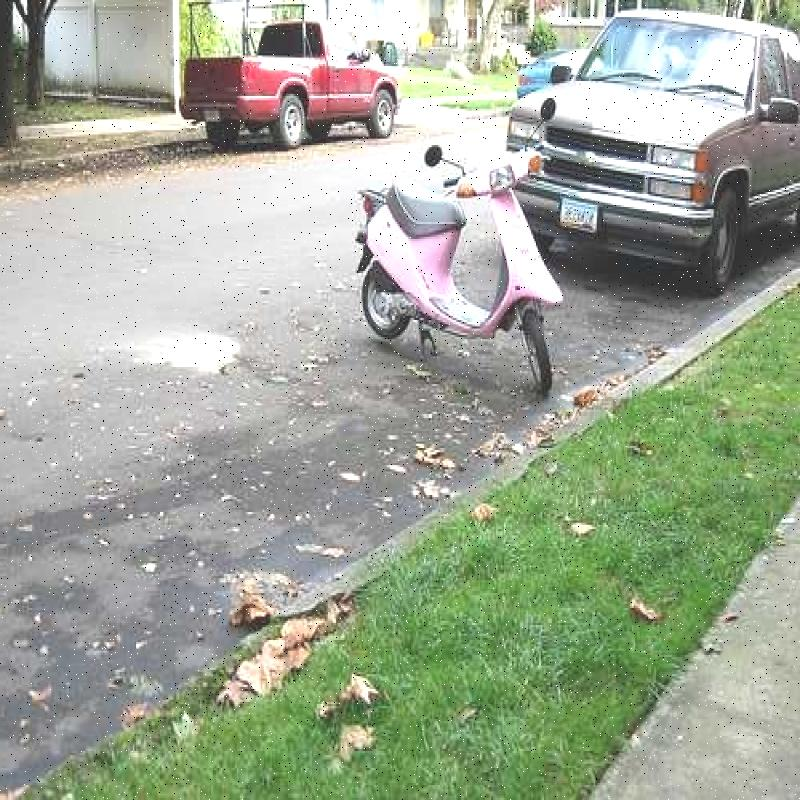bike: (364, 107, 568, 372)
